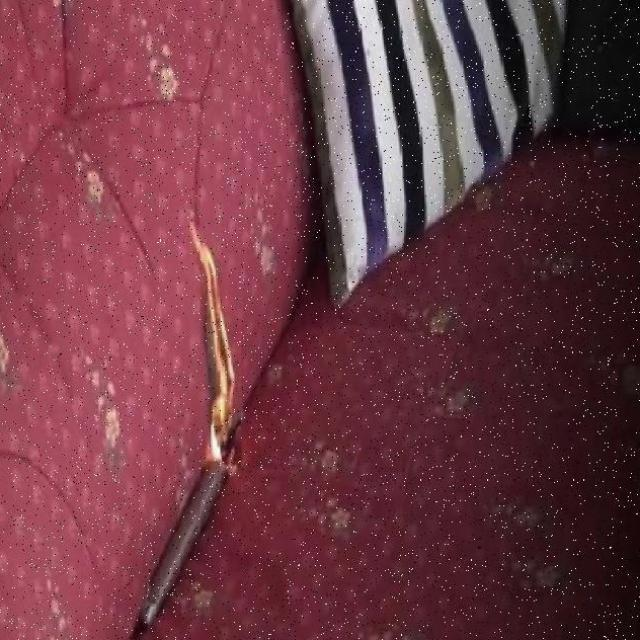smoke: (182, 203, 241, 466)
